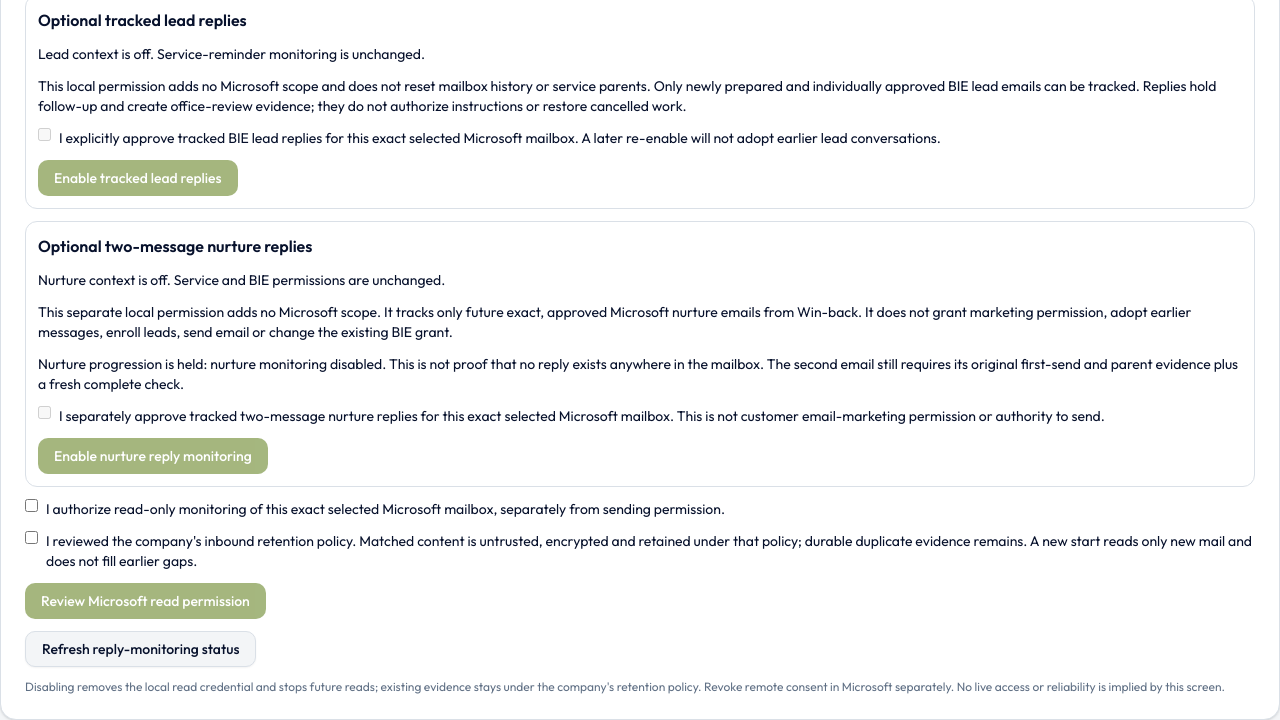
Scenario: fails closed on invalid status and refuses an arbitrary authorization URL
(page scrolled)
Check: the button "Review Microsoft read permission" is shown, box [25,583,266,619]
What coordinates should you click on to do the following:
click the checkbox labelled "I authorize read-only"
I would click on:
 (32, 506)
Its box is [25,499,38,512].
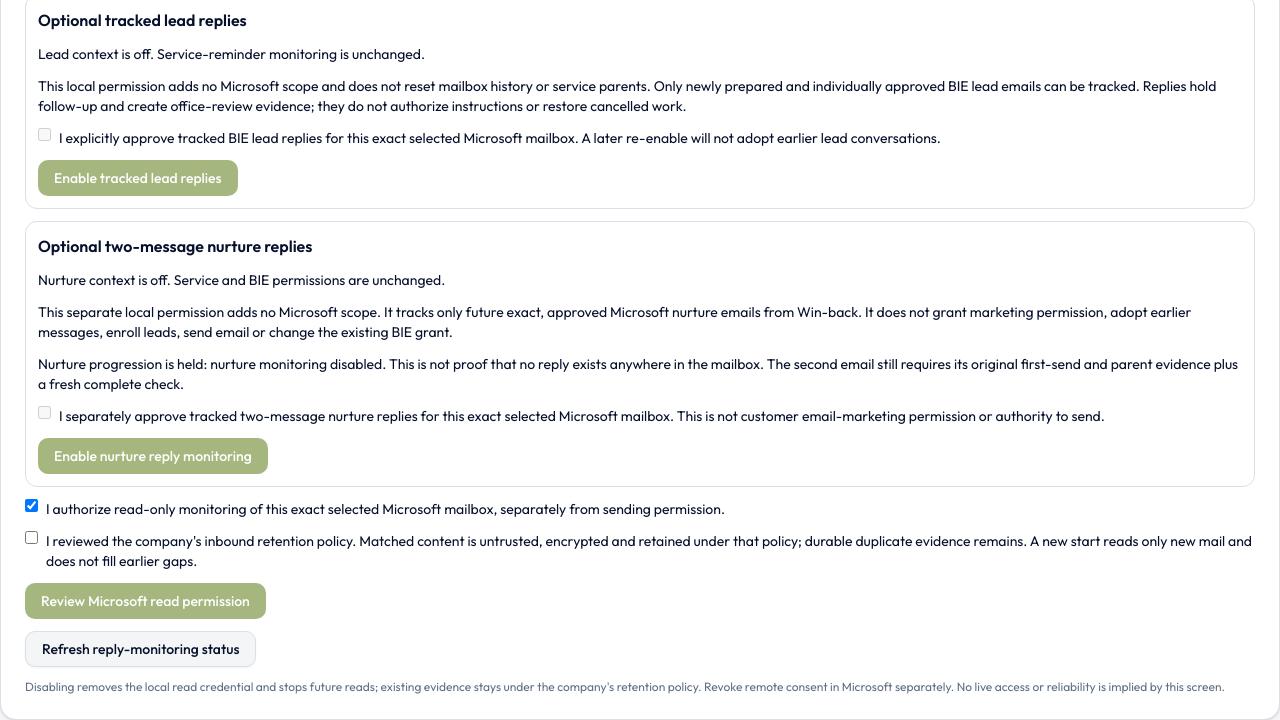
What coordinates should you click on to do the following:
click the checkbox labelled "I reviewed the company's inbound retention"
I would click on:
 (32, 538)
Its box is [25,531,38,544].
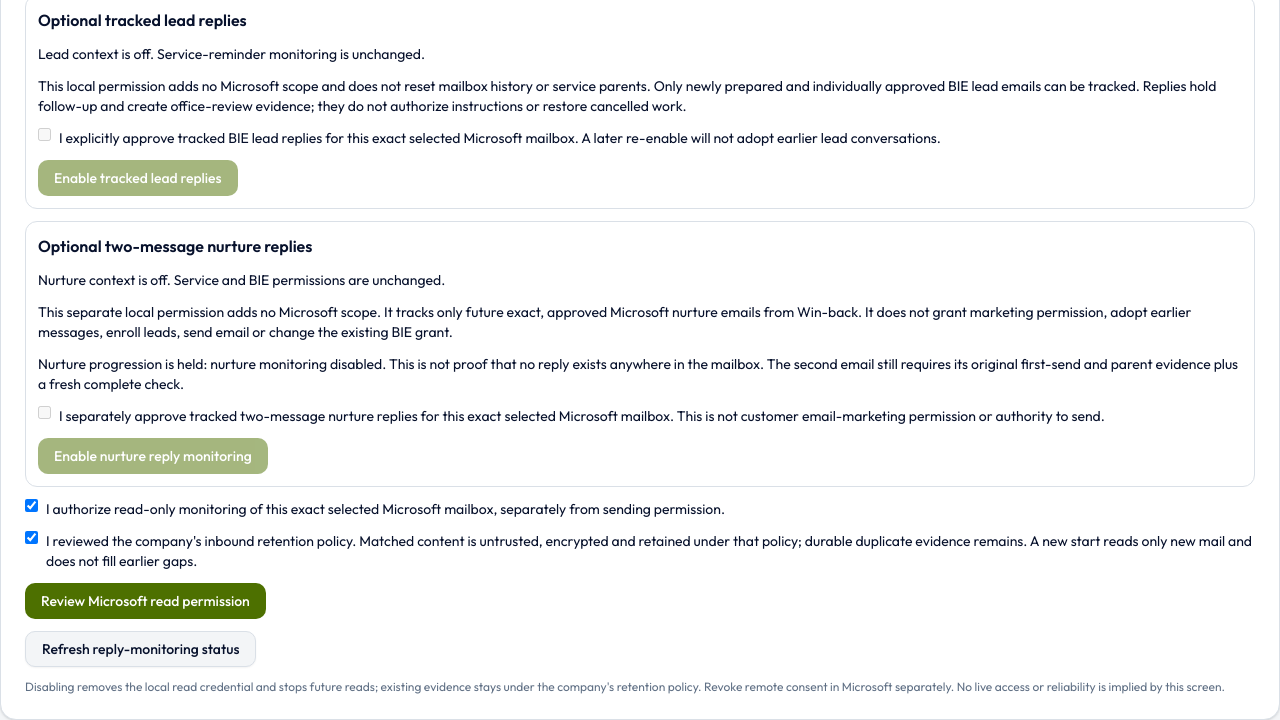
What coordinates should you click on to do the following:
click the button "Review Microsoft read permission"
I would click on:
 (145, 601)
Its box is [25,583,266,619].
(page scrolled)
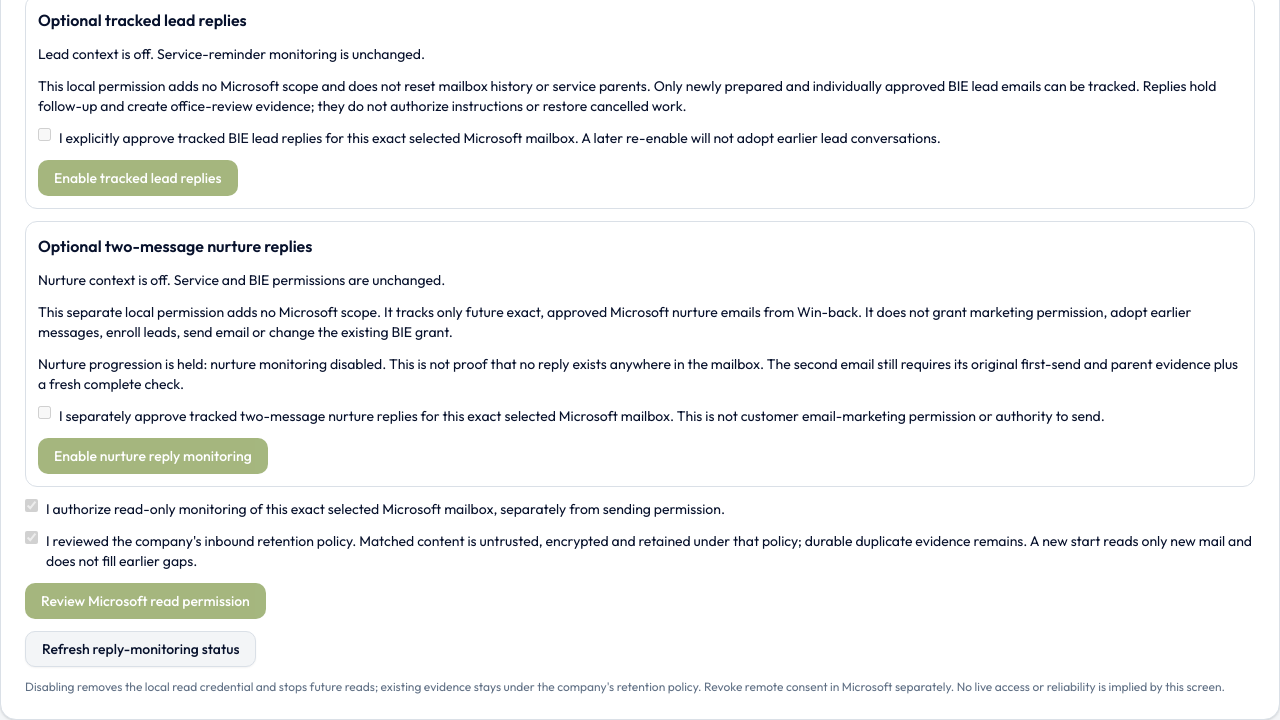
What coordinates should you click on to do the following:
click the button "Refresh reply-monitoring status"
I would click on:
 (141, 649)
Its box is [25,631,256,667].
(page scrolled)
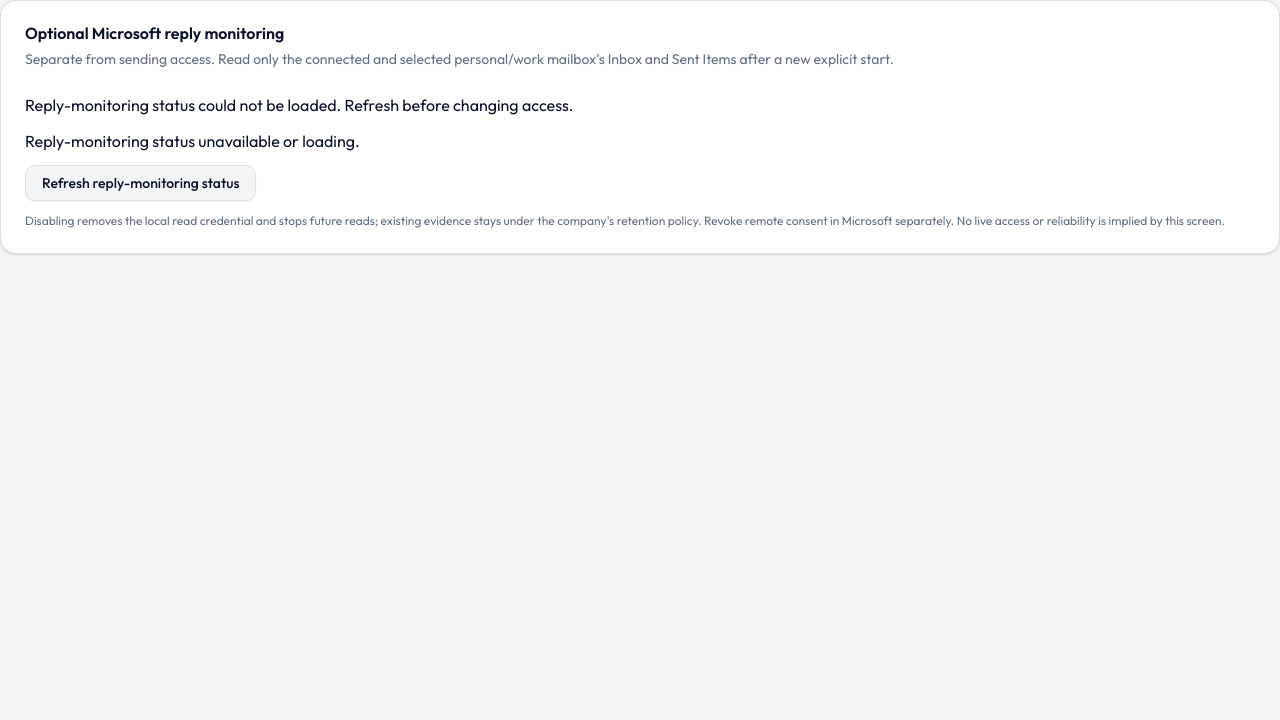
Check: the text "Reply-monitoring status could not be loaded. Refresh before changing access." is shown, box [25,95,574,115]
Check: the button "Review Microsoft read permission" is gone
